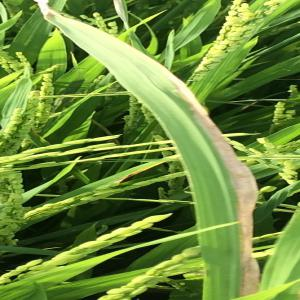Bacterial_Blight: (180, 108, 257, 300)
